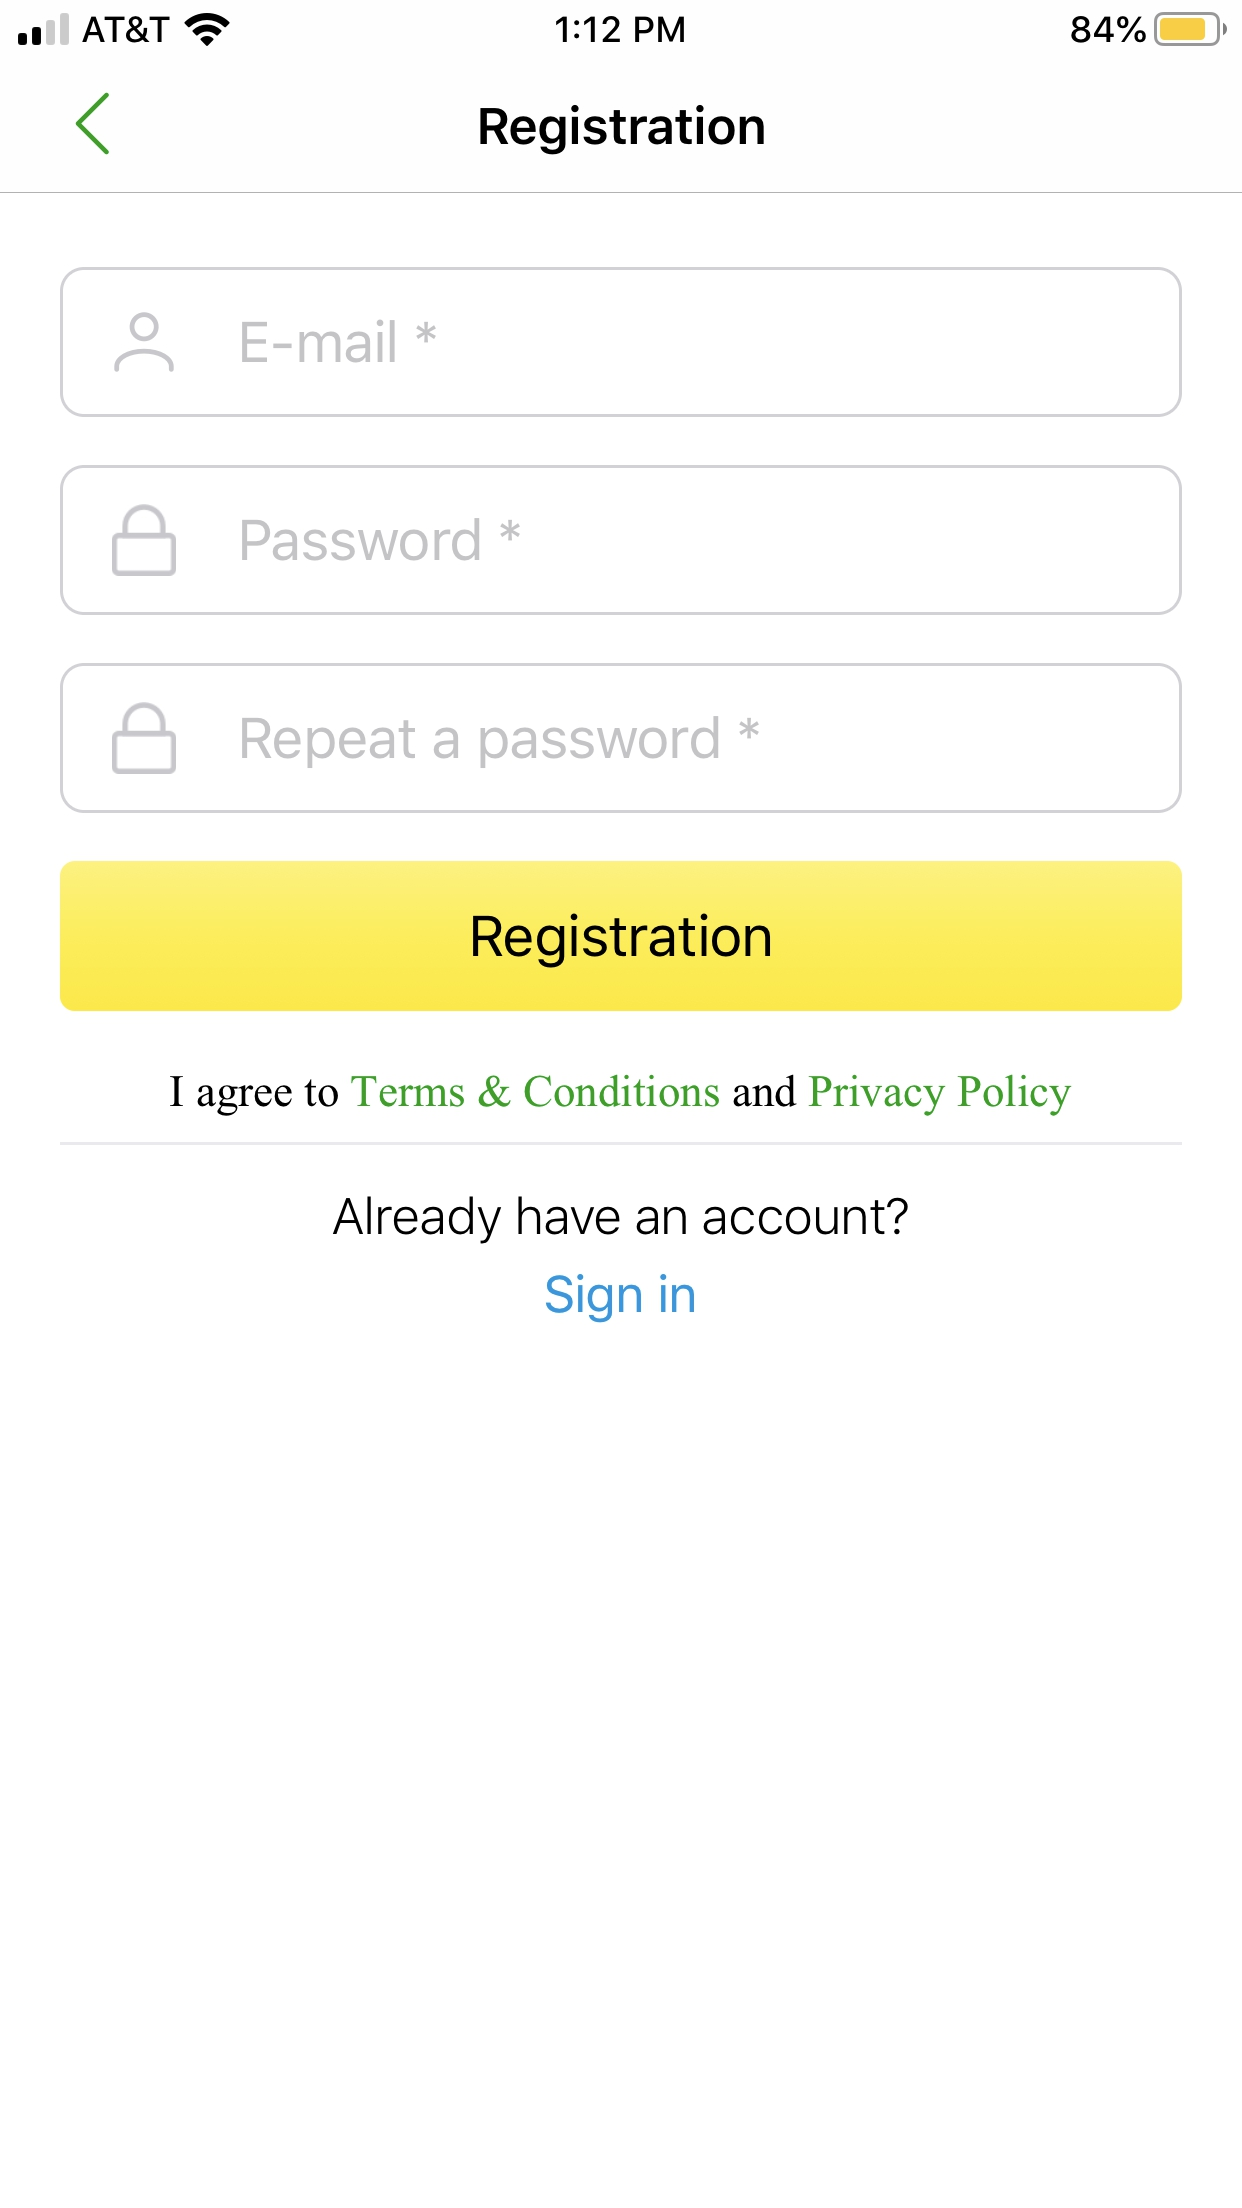EditText: (61, 663, 1183, 814), (61, 268, 1181, 419), (61, 466, 1181, 616)
Icon: (114, 702, 177, 775), (114, 505, 177, 576), (115, 312, 174, 373), (76, 93, 112, 155)
Text: (170, 1075, 1072, 1118), (334, 1195, 908, 1245), (243, 716, 760, 769), (479, 105, 764, 156), (243, 519, 522, 563), (243, 320, 437, 364), (544, 1272, 695, 1322)
TextButton: (61, 861, 1181, 1011)
UpperTaskBar: (2, 2, 1242, 49)
